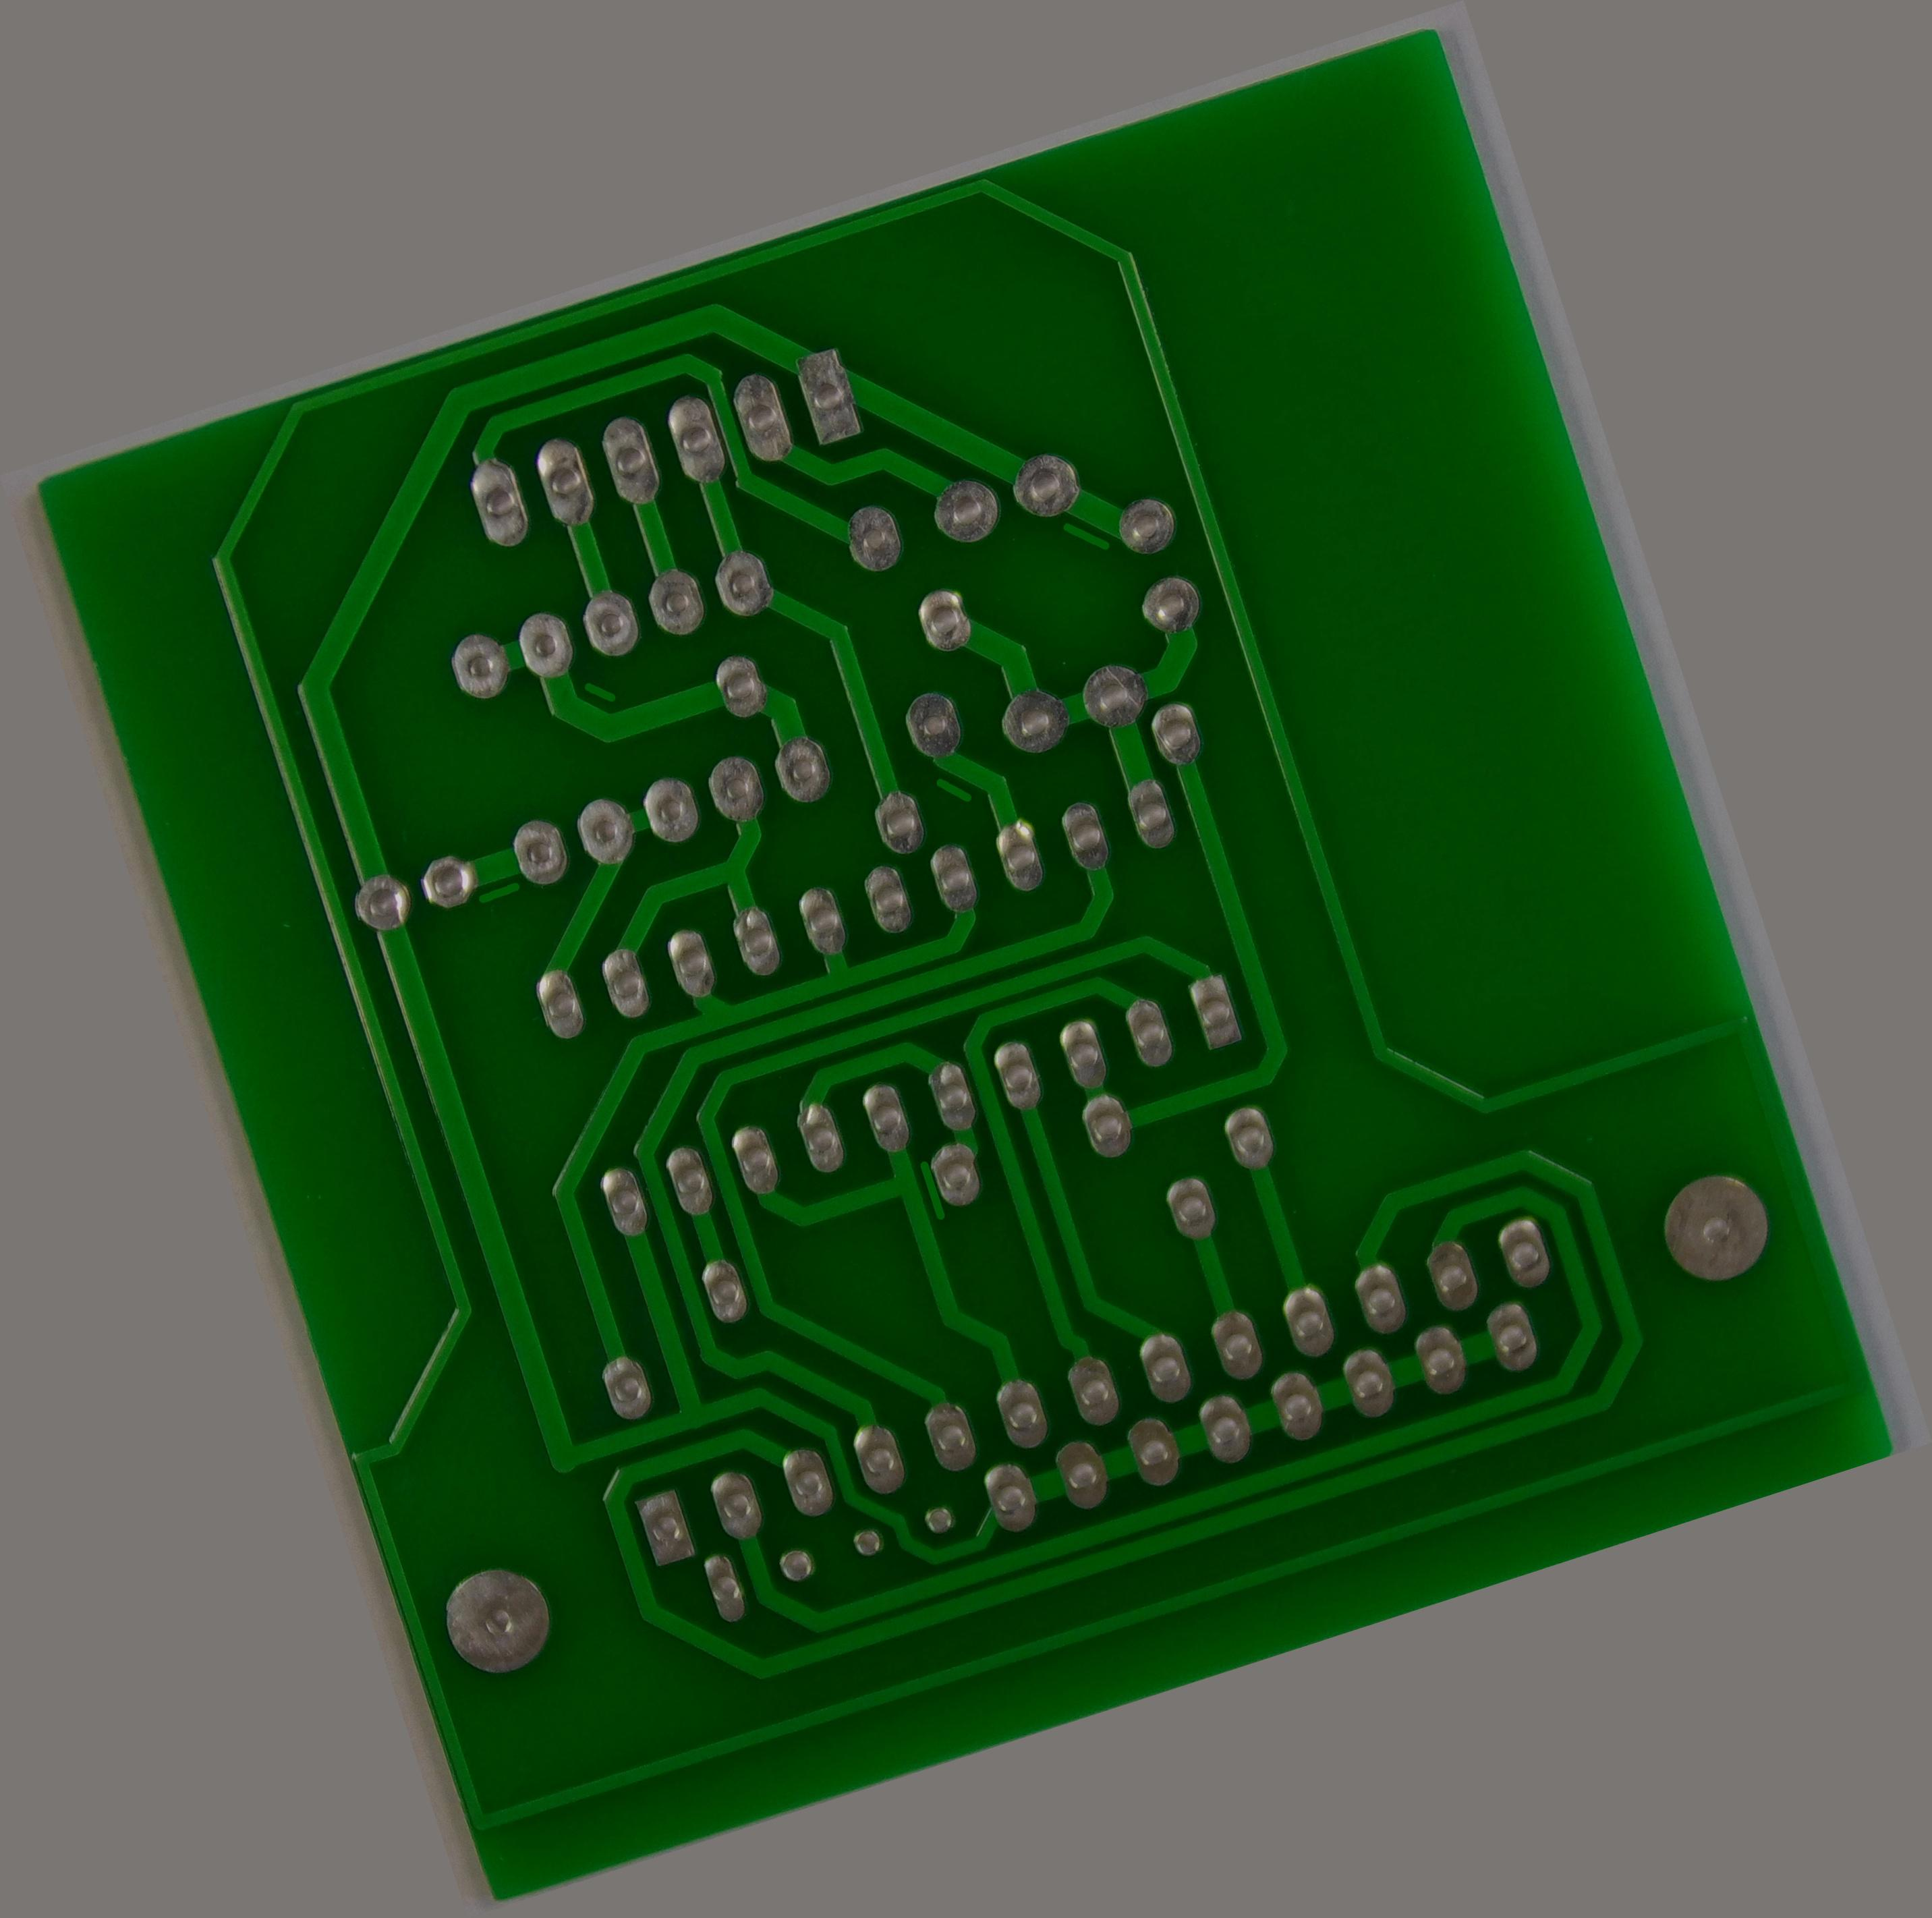spurious_copper: (896, 1140, 975, 1235), (1043, 499, 1122, 576), (455, 864, 532, 922), (920, 757, 984, 824), (567, 666, 622, 722)
